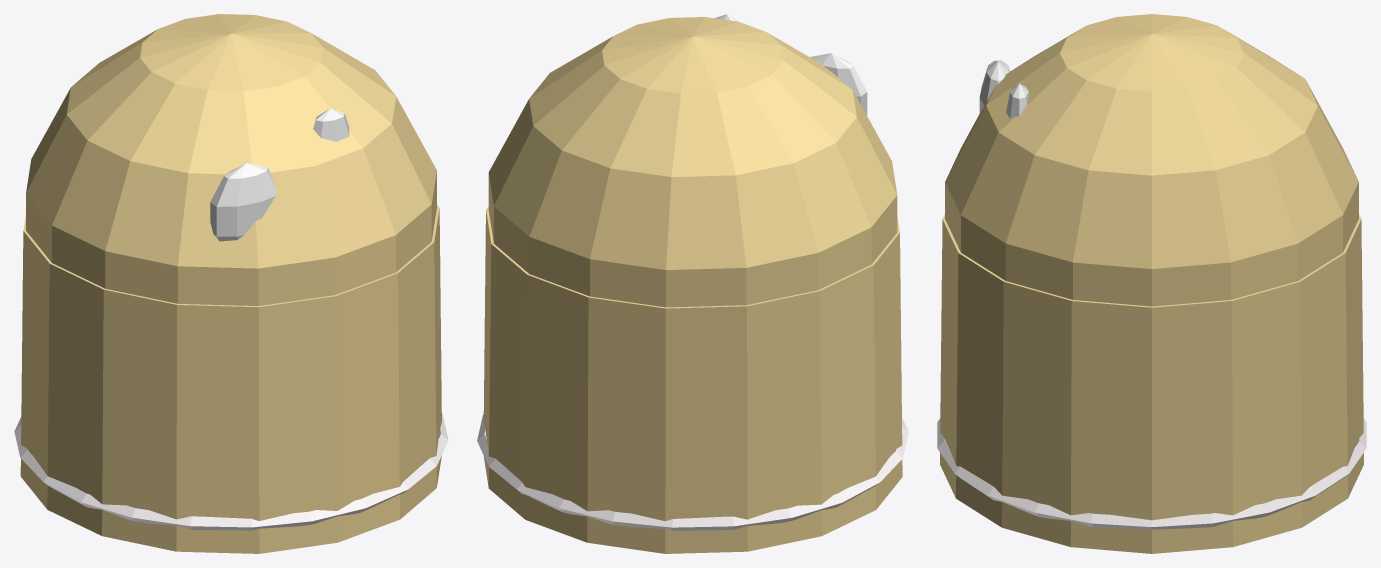
File: gominola_amarilla.glb
3 views of the same model, side by side, from view 1: azimuth 30°, elevation 25°; view 2: azimuth 150°, elevation 25°; view 3: azimuth 270°, elevation 25° (orthographic).
Visible parts, largest first — view 1: gominola_amarilla; view 2: gominola_amarilla; view 3: gominola_amarilla.
Part boxes in pixels (bbox=[...]): gominola_amarilla: bbox=[14, 14, 448, 553]; gominola_amarilla: bbox=[477, 14, 908, 553]; gominola_amarilla: bbox=[937, 14, 1366, 553].
Size of the model in its own units: 1.64 by 1.79 by 1.62.
